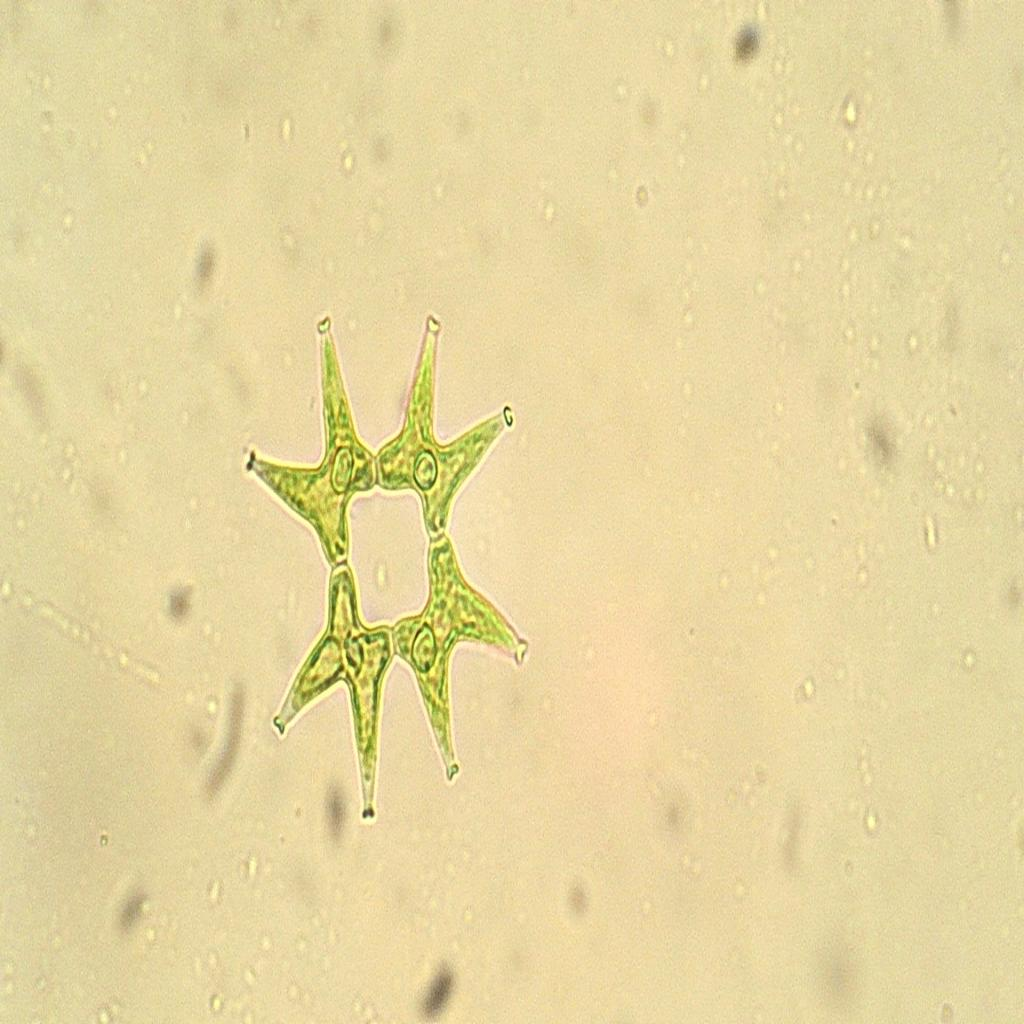Pediastrum_75O: (234, 286, 540, 846)
